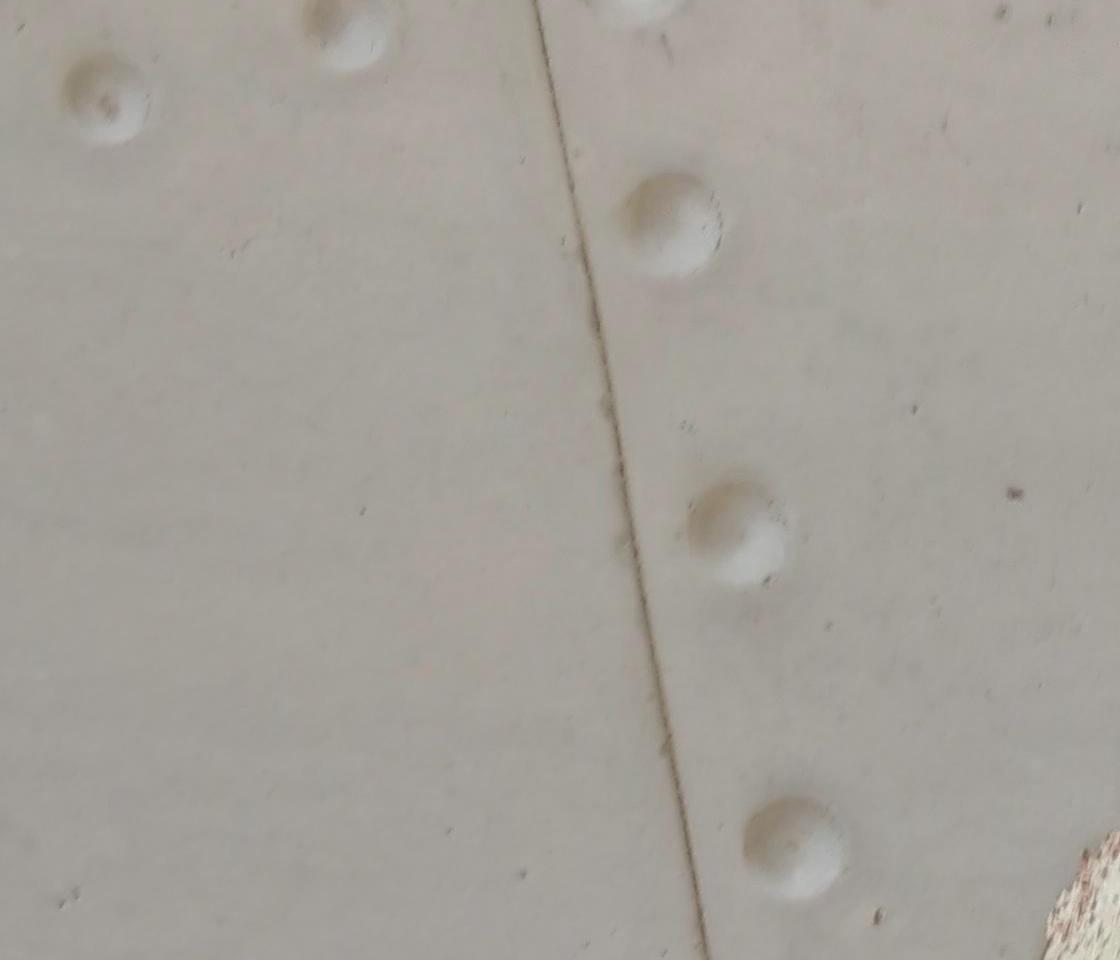paint_peel: (1040, 823, 1119, 960)
